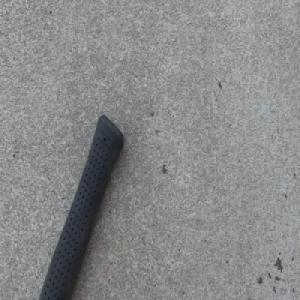Hammer: (33, 111, 126, 300)
